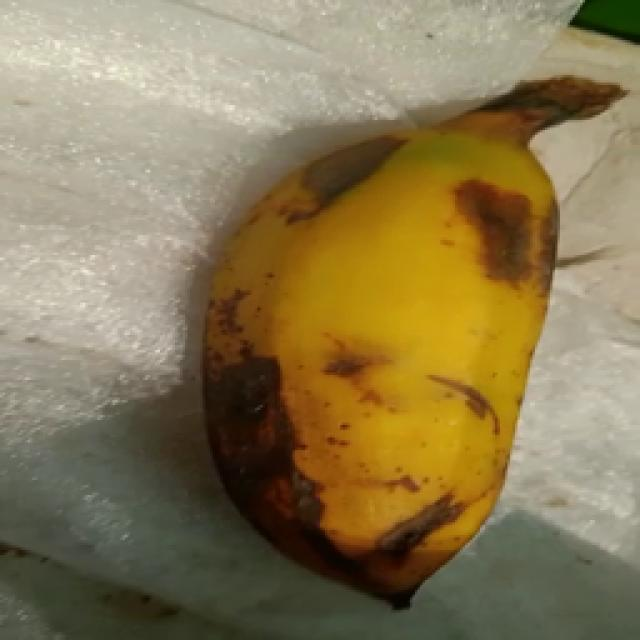Rotten_Banana: (200, 66, 640, 633)
